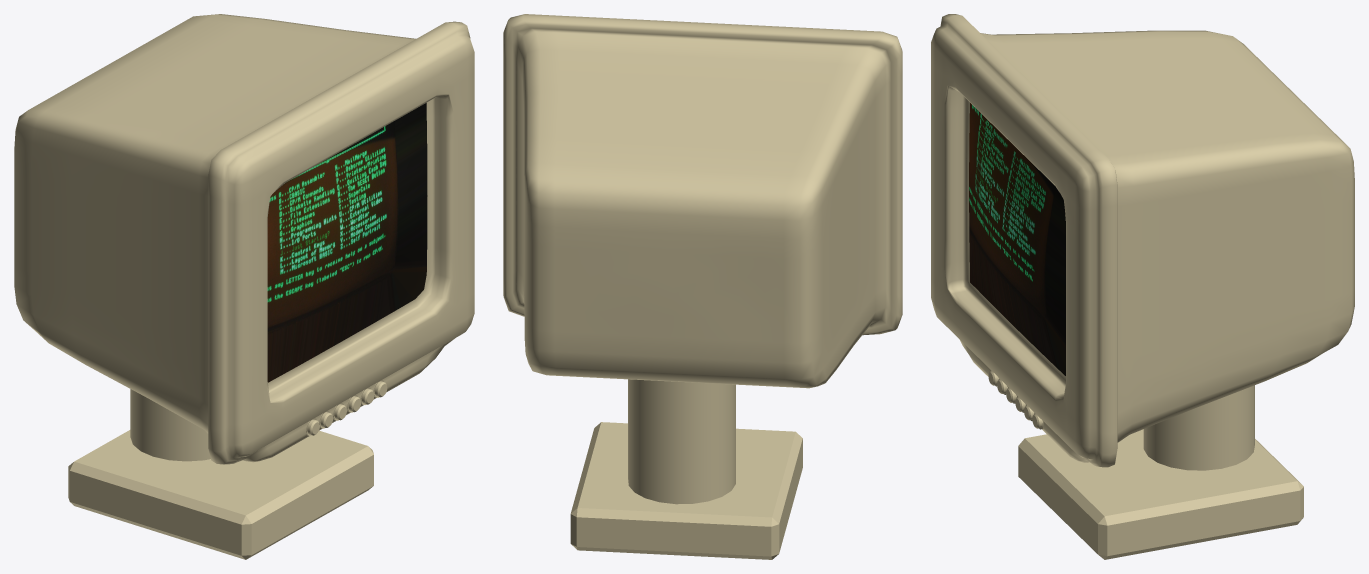
Rendered from computer.fbx.
The picture shows the model from 3 angles, left to right: view 1: azimuth 30°, elevation 25°; view 2: azimuth 150°, elevation 25°; view 3: azimuth 270°, elevation 25°; orthographic projection. The views are drawn at different scales.
Parts seen in each view (by area): view 1: polySurface121; view 2: polySurface121; view 3: polySurface121.
Part boxes in pixels (left/top/right/bottom): polySurface121: left=14, top=14, right=474, bottom=559; polySurface121: left=503, top=14, right=902, bottom=559; polySurface121: left=931, top=14, right=1354, bottom=559.
Bounding box in the file's own units: 7.33 × 8.08 × 7.05.
Materials: 2 (1 with a texture image).
